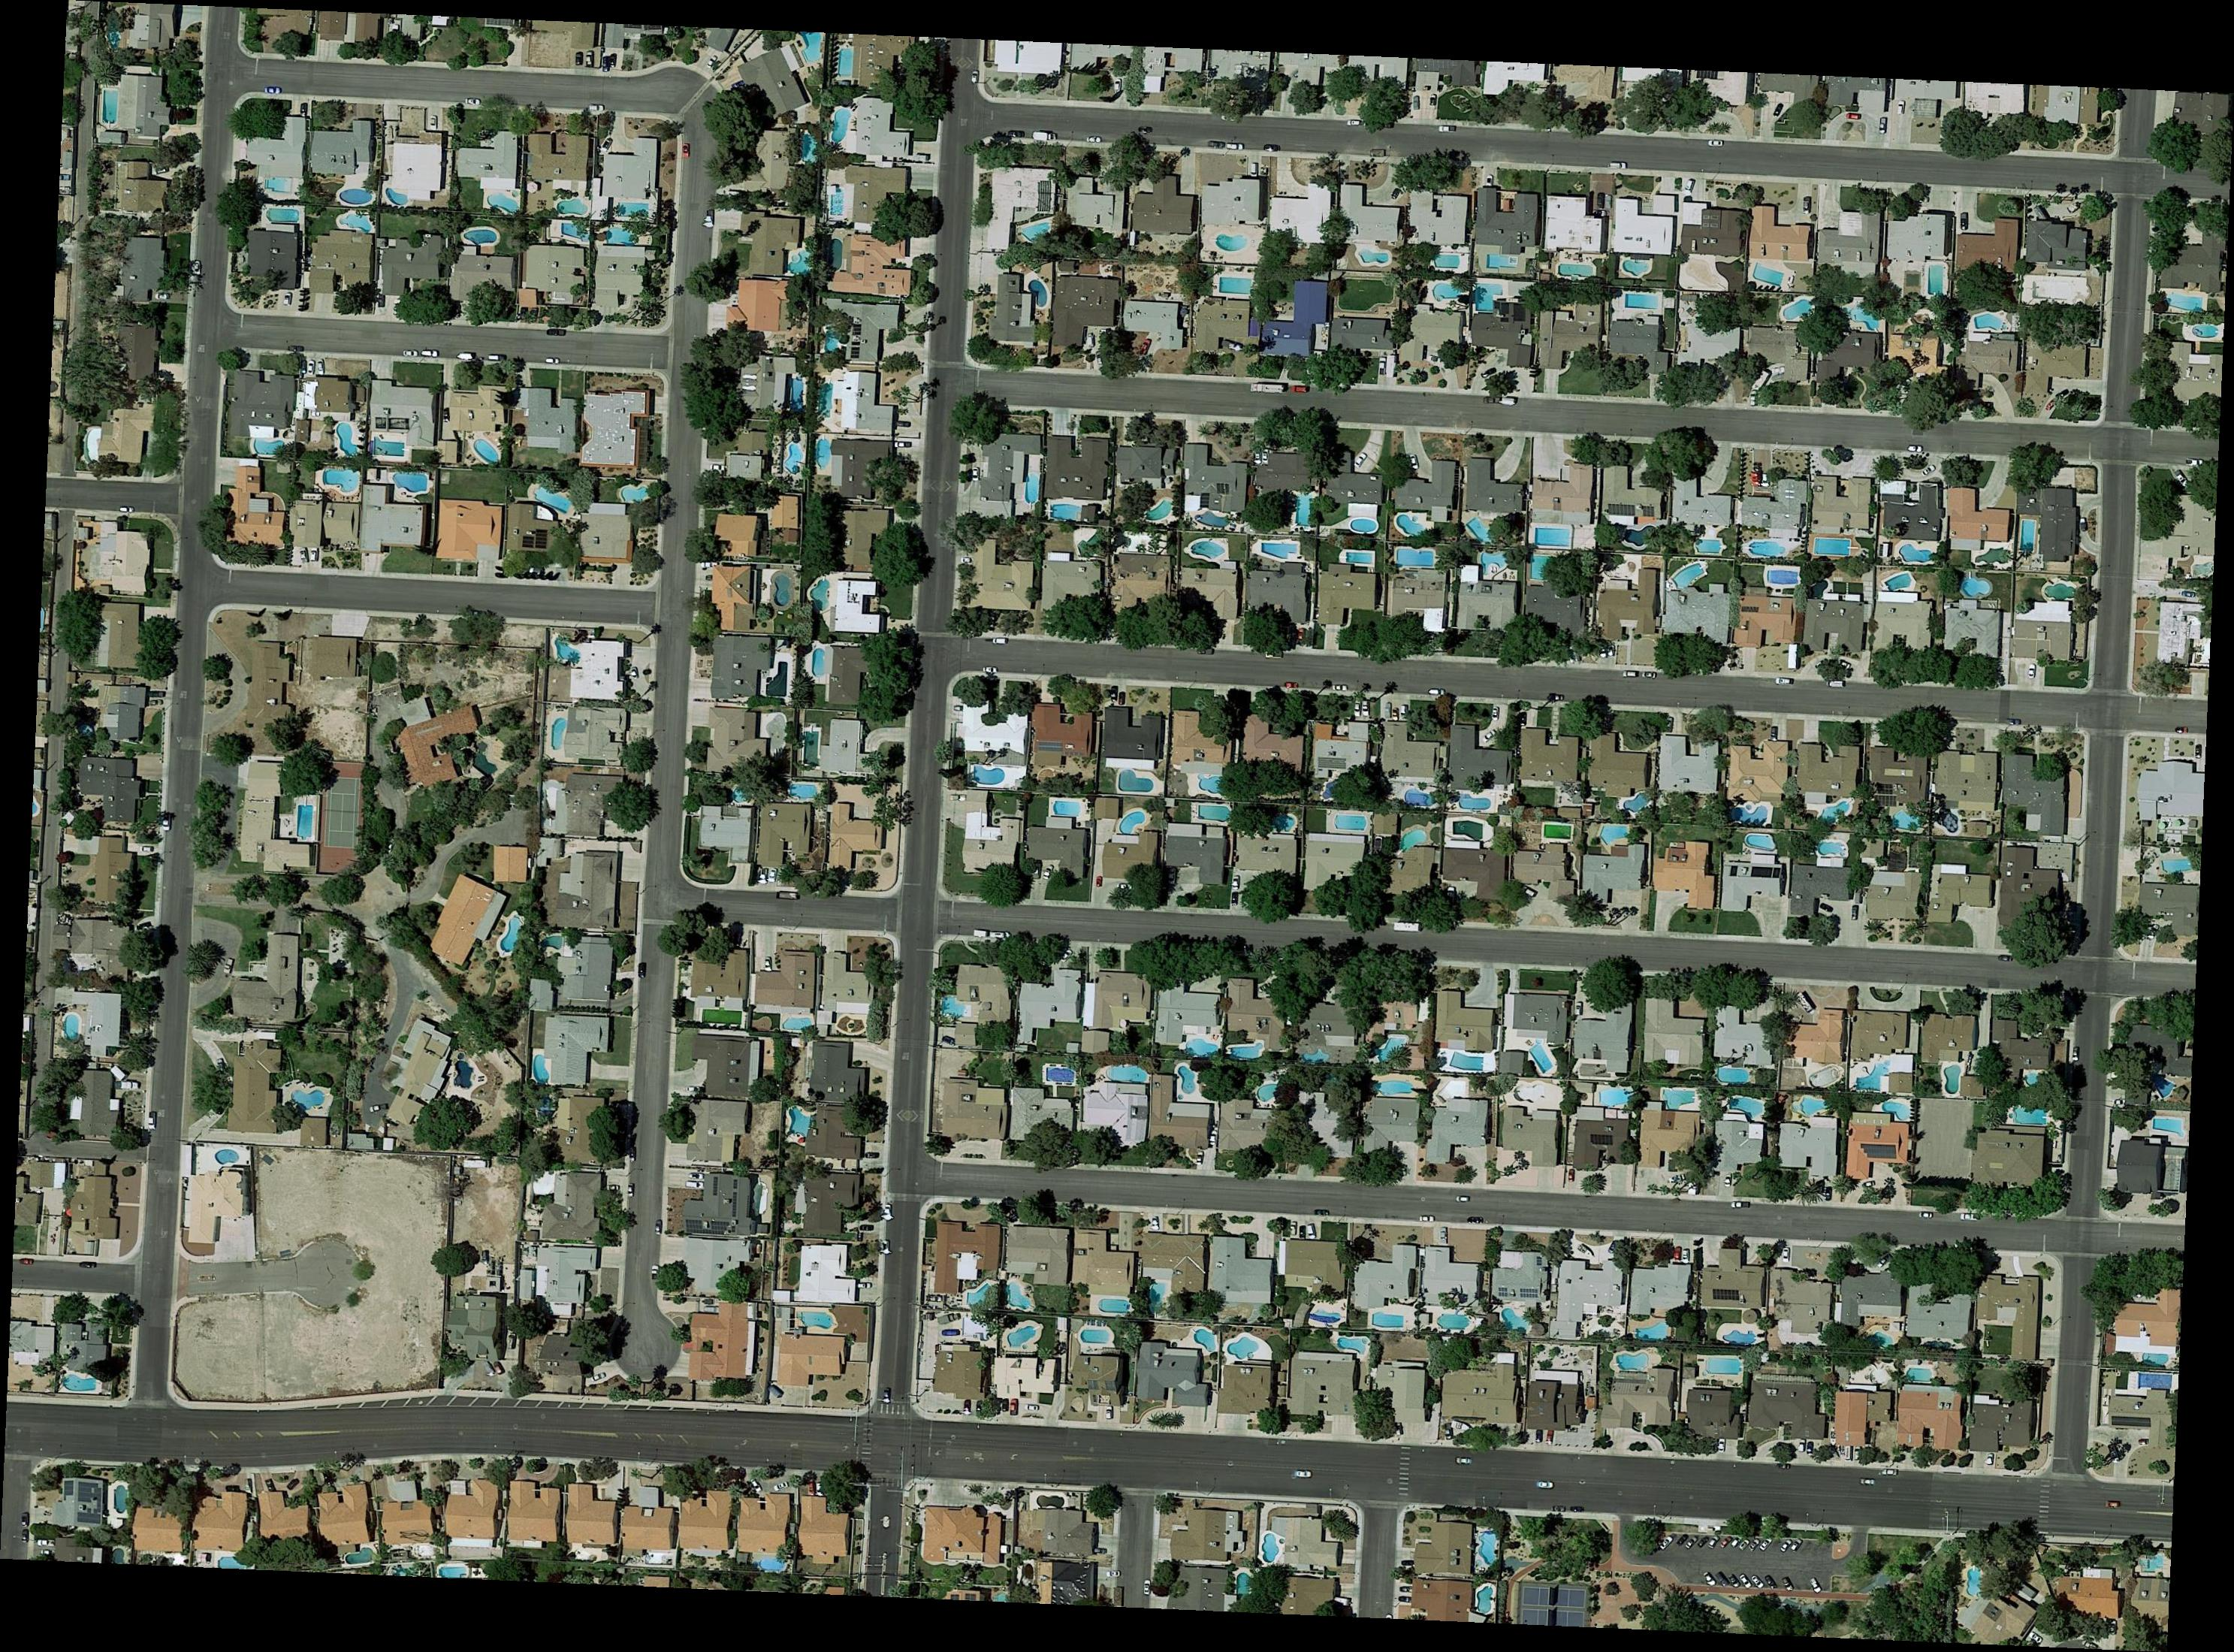ship: (1575, 1242, 1597, 1262)
